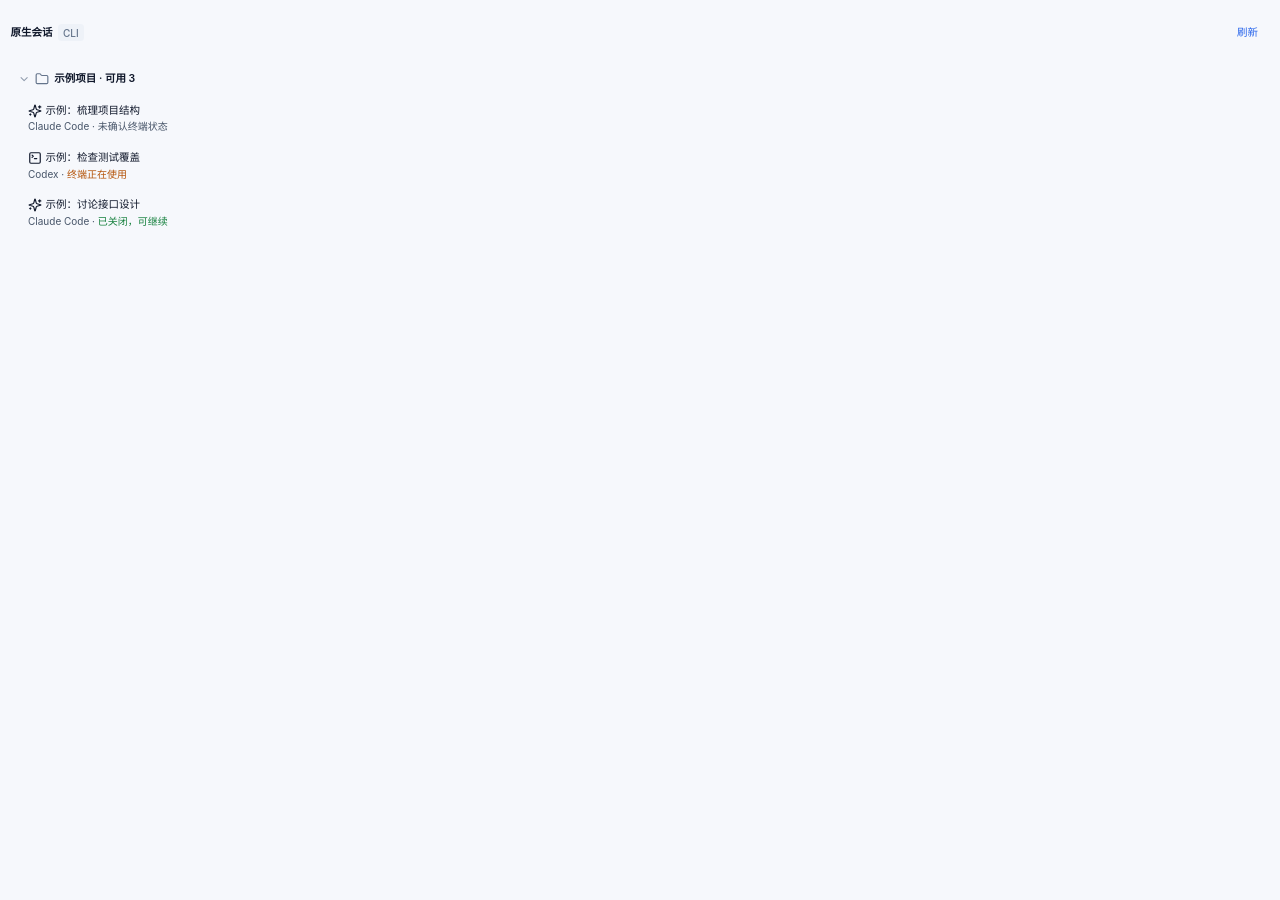
it: R3 native sessions › handles NATIVE_SESSION_ACTIVE with requestId and drops confirmation
Click the button "示例：梳理项目结构 Claude Code · 未确认终端状态". click: (93, 110)
box: [18,96,1270,140]
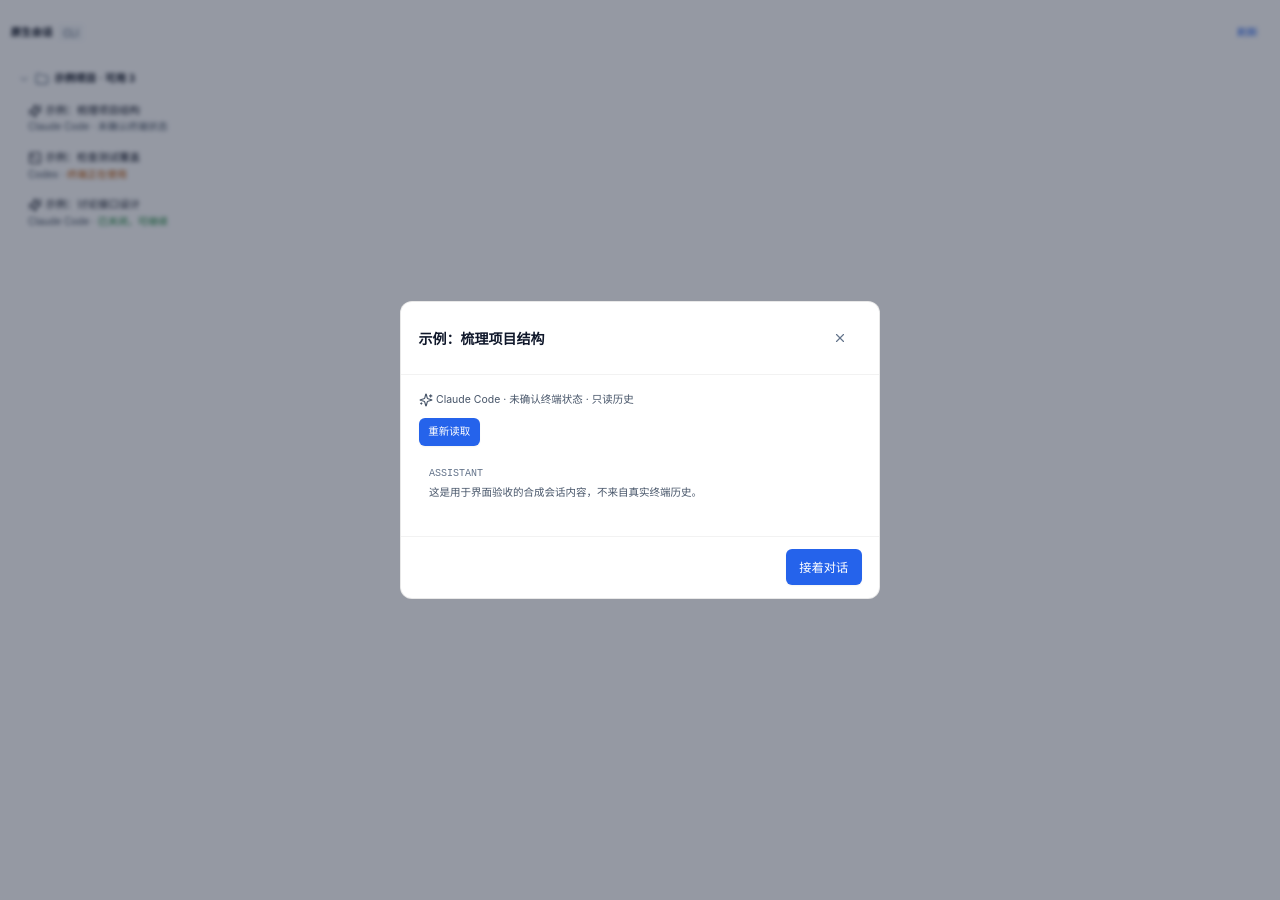
Click the button "接着对话". click: (824, 567)
box: [786,549,862,585]
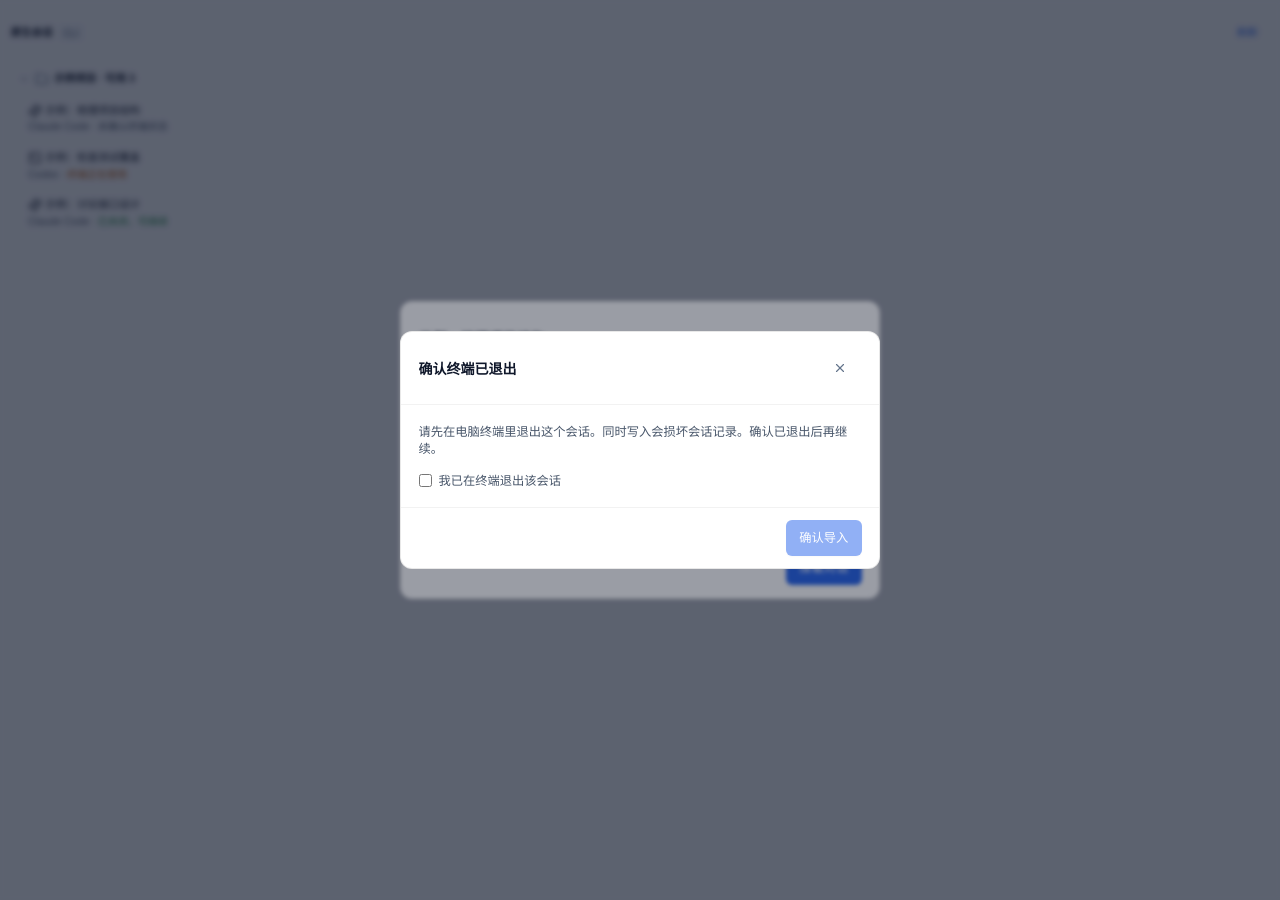
Click the checkbox labelled "我已在终端退出该会话". click: (425, 480)
box: [418,472,432,489]
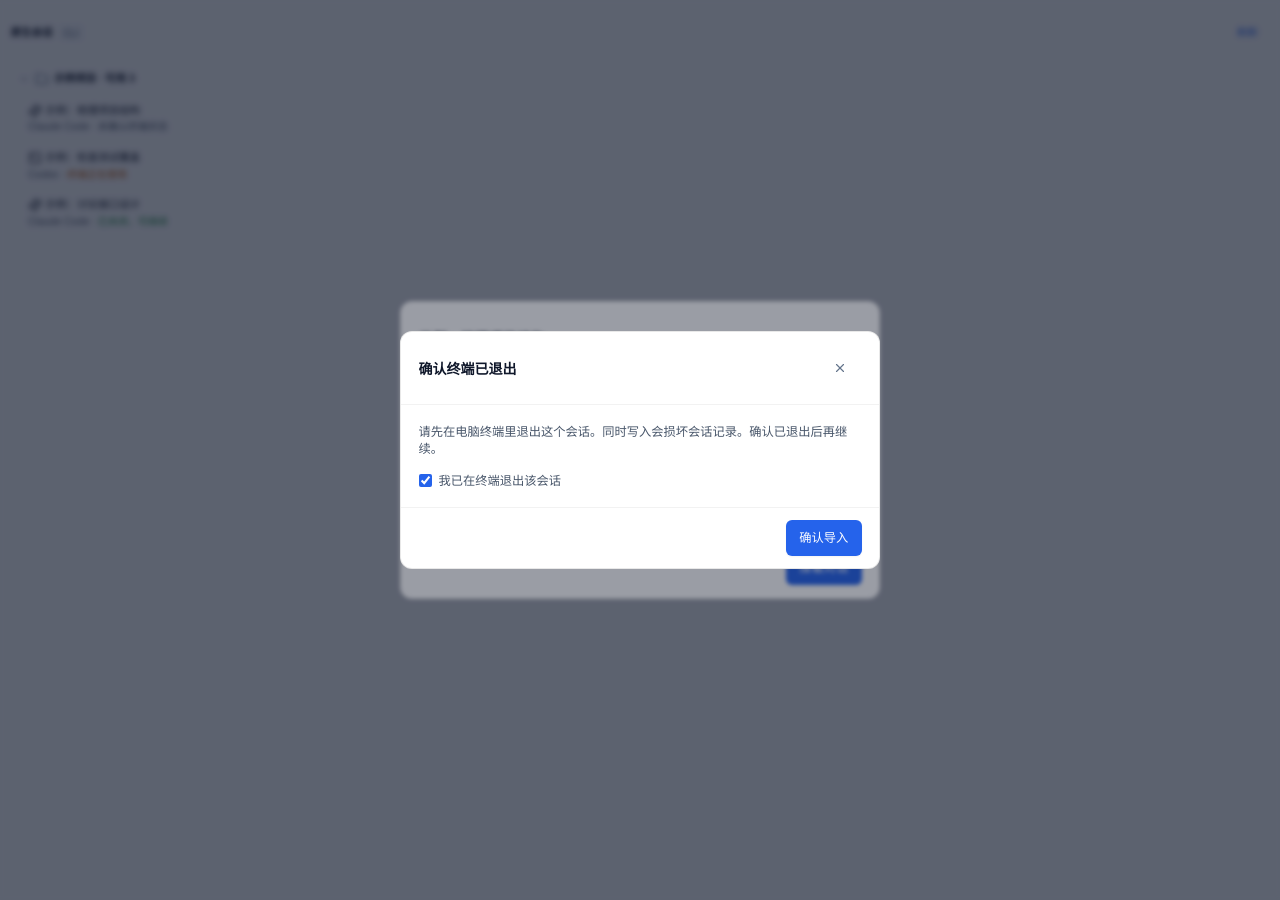
Click the button "确认导入". click: (824, 538)
box: [786,520,862,556]
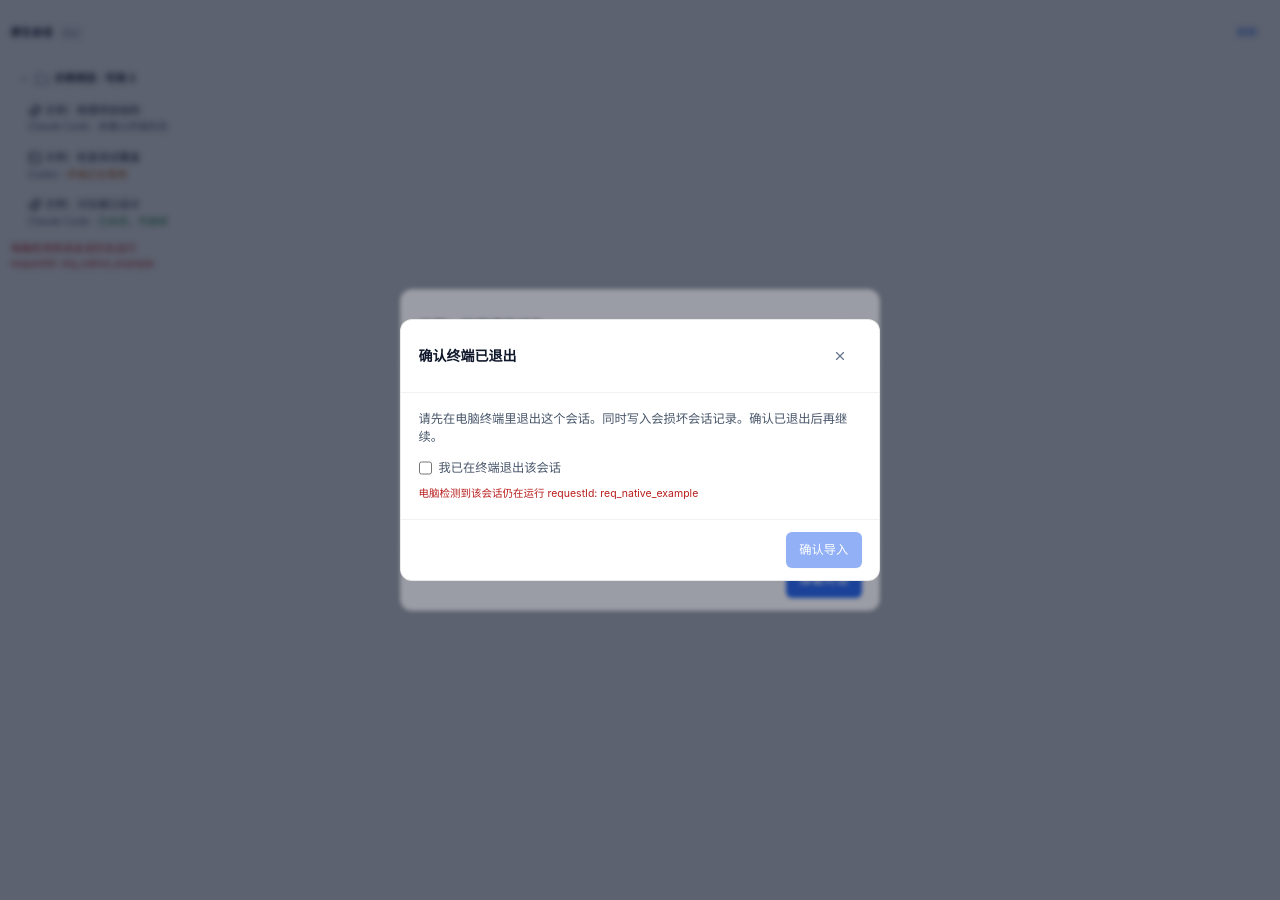
Now the text "电脑检测到该会话仍在运行" is shown, box [10,242,136,255]
Now the checkbox labelled "我已在终端退出该会话" is not checked, box [418,459,432,477]
